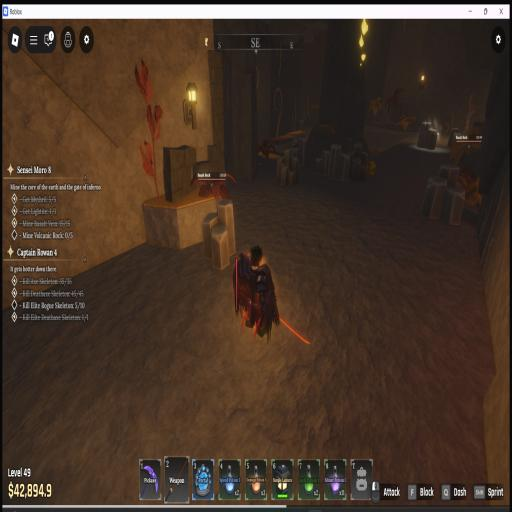player: (233, 246, 279, 341)
rock: (421, 165, 465, 224), (202, 201, 235, 269), (315, 145, 350, 181), (454, 148, 481, 177), (277, 150, 298, 185), (417, 122, 438, 149), (294, 139, 305, 165)
